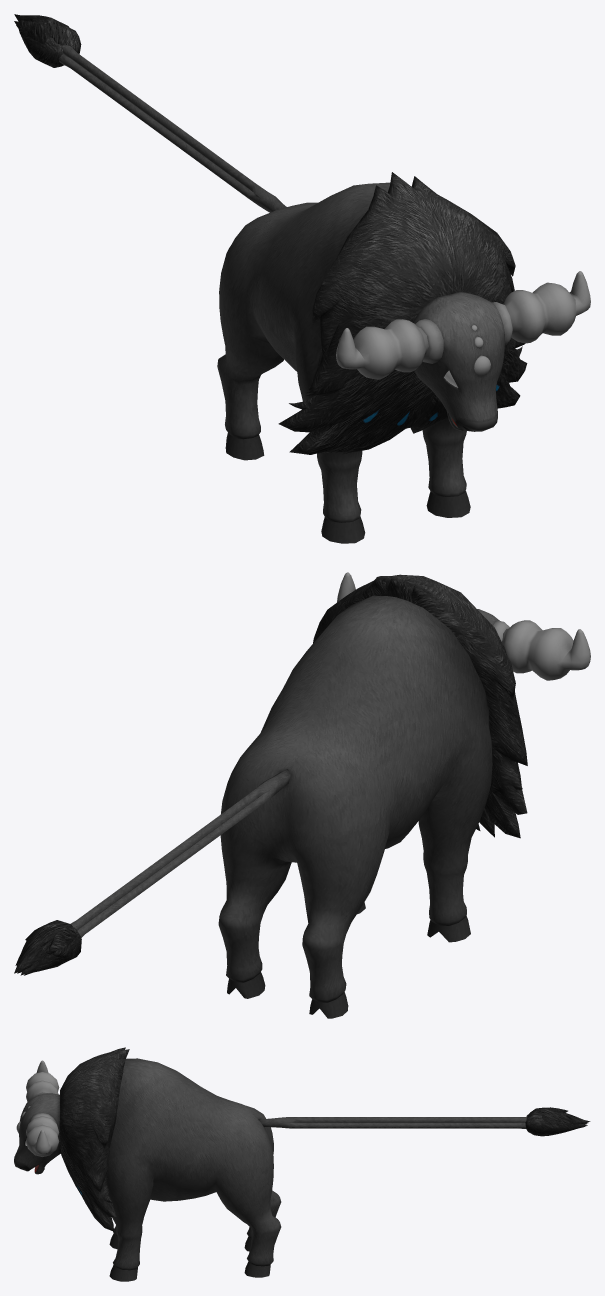
3 views of the same model, one above another, from view 1: azimuth 30°, elevation 25°; view 2: azimuth 150°, elevation 25°; view 3: azimuth 270°, elevation 25° (orthographic). The views are drawn at different scales.
Parts seen in each view (by area): view 1: pm0128_13_51_fur_mesh_shape_body_b, pm0128_13_51_body_mesh_shape_body_a_00, pm0128_13_51_head_mesh_shape_body_a_01, pm0128_13_51_head_mesh_shape_body_a_00, pm0128_13_51_tail_mesh_shape_body_b; view 2: pm0128_13_51_body_mesh_shape_body_a_00, pm0128_13_51_fur_mesh_shape_body_b, pm0128_13_51_tail_mesh_shape_body_b, pm0128_13_51_head_mesh_shape_body_a_01; view 3: pm0128_13_51_body_mesh_shape_body_a_00, pm0128_13_51_fur_mesh_shape_body_b, pm0128_13_51_tail_mesh_shape_body_b, pm0128_13_51_head_mesh_shape_body_a_01, pm0128_13_51_head_mesh_shape_body_a_00.
Boxes of the visible parts, bbox=[...] form: pm0128_13_51_fur_mesh_shape_body_b: bbox=[278, 172, 527, 454]; pm0128_13_51_body_mesh_shape_body_a_00: bbox=[217, 182, 470, 543]; pm0128_13_51_head_mesh_shape_body_a_01: bbox=[336, 271, 590, 379]; pm0128_13_51_head_mesh_shape_body_a_00: bbox=[413, 291, 505, 431]; pm0128_13_51_tail_mesh_shape_body_b: bbox=[14, 14, 286, 212]; pm0128_13_51_body_mesh_shape_body_a_00: bbox=[218, 595, 492, 1018]; pm0128_13_51_fur_mesh_shape_body_b: bbox=[313, 574, 527, 838]; pm0128_13_51_tail_mesh_shape_body_b: bbox=[14, 769, 290, 975]; pm0128_13_51_head_mesh_shape_body_a_01: bbox=[337, 572, 590, 680]; pm0128_13_51_body_mesh_shape_body_a_00: bbox=[107, 1058, 281, 1281]; pm0128_13_51_fur_mesh_shape_body_b: bbox=[59, 1047, 129, 1231]; pm0128_13_51_tail_mesh_shape_body_b: bbox=[258, 1107, 590, 1136]; pm0128_13_51_head_mesh_shape_body_a_01: bbox=[16, 1060, 59, 1156]; pm0128_13_51_head_mesh_shape_body_a_00: bbox=[14, 1093, 60, 1174].
Size of the model in its own units: 1.08 by 1.42 by 3.52.
5 materials, 5 textured.
